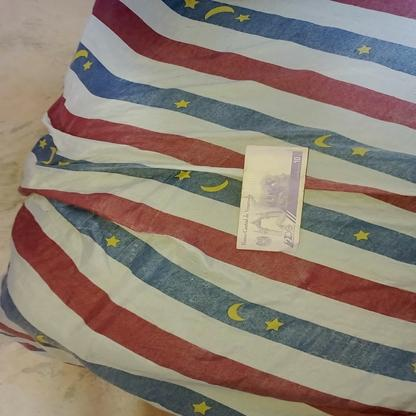ten-back-vef: (236, 145, 309, 258)
